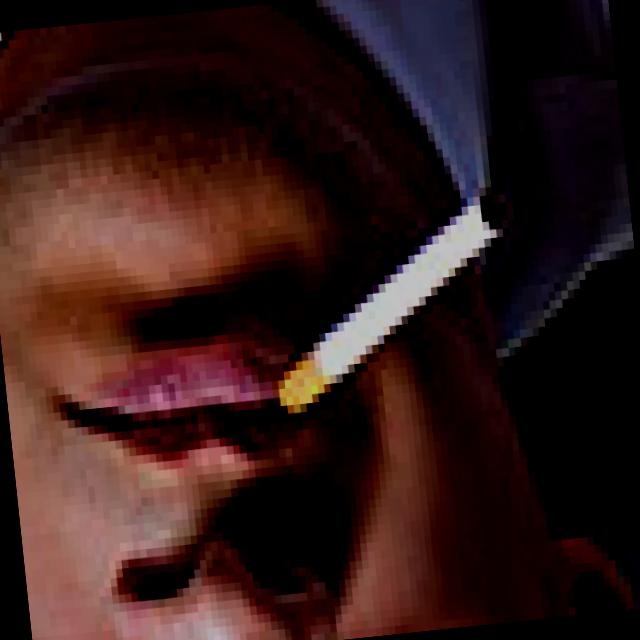smoke: (256, 176, 530, 411)
